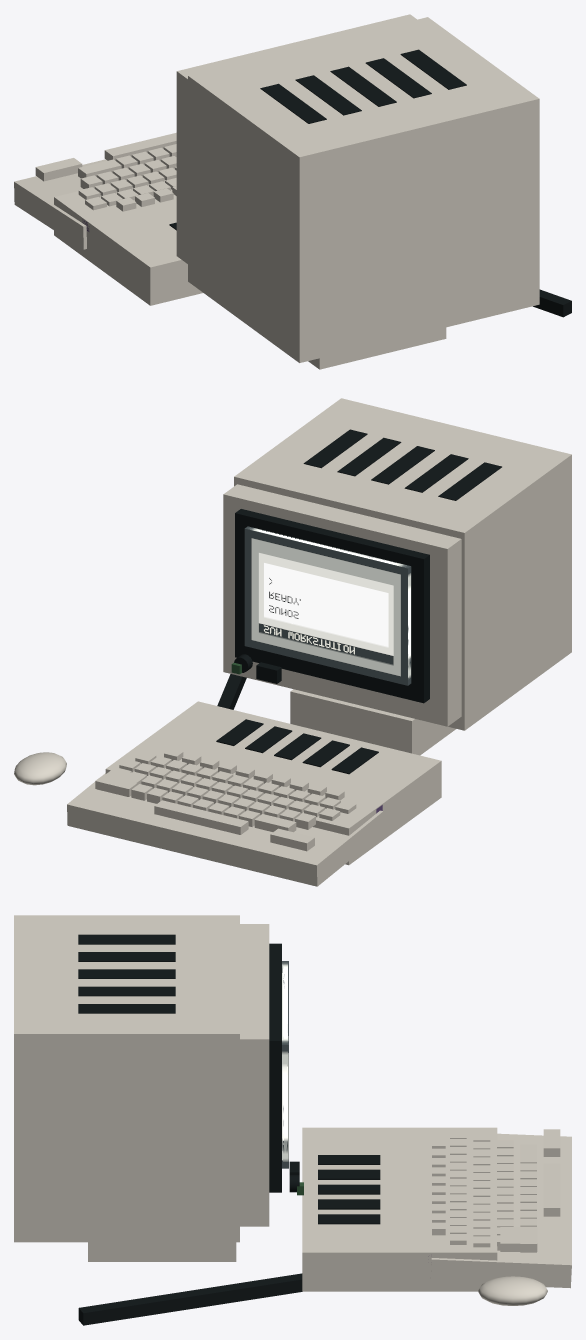
Rendered from sun-workstation.glb.
3 renders of one model, top to bottom at view 1: azimuth 30°, elevation 25°; view 2: azimuth 150°, elevation 25°; view 3: azimuth 270°, elevation 25°, orthographic. The views are drawn at different scales.
Parts seen in each view (by area): view 1: sun CRT rear case, sun computer base, sun monitor vent slit (×5), sun CRT face surround, sun keyboard tray, sun CRT pedestal, sun space key, sun left shift key, sun coiled monitor cable; view 2: sun CRT rear case, Sun screen, sun CRT face surround, sun computer base, sun keyboard tray, sun CRT recessed bezel, sun CRT pedestal, sun monitor vent slit (×5), sun space key, Sun mouse, sun return key, sun left shift key (+1 smaller); view 3: sun CRT rear case, sun computer base, sun CRT face surround, sun keyboard tray, sun monitor vent slit (×5), sun coiled monitor cable, sun base vent slit (×5), sun CRT recessed bezel, sun CRT pedestal, Sun mouse, Sun screen, sun space key (+1 smaller).
Part boxes in pixels (<box>): sun CRT rear case: <box>188,17,539,362</box>; sun computer base: <box>54,168,202,305</box>; sun monitor vent slit (×5): <box>260,49,466,123</box>; sun CRT face surround: <box>176,14,416,263</box>; sun keyboard tray: <box>14,159,107,249</box>; sun CRT pedestal: <box>308,327,446,369</box>; sun space key: <box>104,132,176,160</box>; sun left shift key: <box>35,158,82,181</box>; sun coiled monitor cable: <box>533,289,571,317</box>; sun CRT rear case: <box>234,398,571,730</box>; Sun screen: <box>244,526,411,685</box>; sun CRT face surround: <box>223,484,461,726</box>; sun computer base: <box>105,701,441,865</box>; sun keyboard tray: <box>67,773,383,886</box>; sun CRT recessed bezel: <box>235,509,429,703</box>; sun CRT pedestal: <box>290,689,456,755</box>; sun monitor vent slit (×5): <box>303,429,501,500</box>; sun space key: <box>154,800,248,834</box>; Sun mouse: <box>14,752,66,785</box>; sun return key: <box>96,768,145,796</box>; sun left shift key: <box>270,828,314,851</box>; sun CRT rear case: <box>14,915,239,1242</box>; sun computer base: <box>302,1127,497,1291</box>; sun CRT face surround: <box>240,924,269,1226</box>; sun keyboard tray: <box>430,1133,571,1288</box>; sun monitor vent slit (×5): <box>78,934,175,1013</box>; sun coiled monitor cable: <box>78,1273,302,1325</box>; sun base vent slit (×5): <box>318,1155,380,1224</box>; sun CRT recessed bezel: <box>269,943,281,1192</box>; sun CRT pedestal: <box>88,1242,236,1261</box>; Sun mouse: <box>478,1276,547,1305</box>; Sun screen: <box>282,961,288,1168</box>; sun space key: <box>543,1163,560,1216</box>.
Bounding box in the file's own units: 1.02 × 0.7345 × 1.43.
5 materials, 1 textured.
